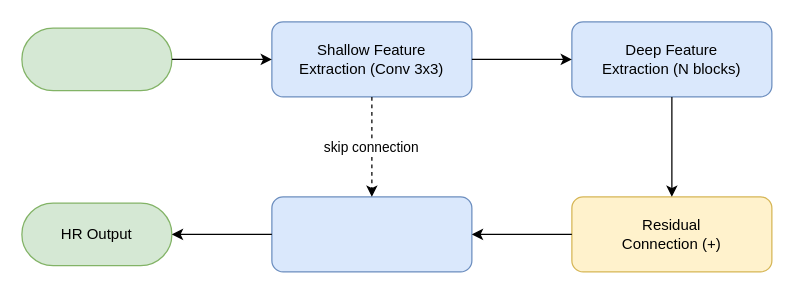
Some shapes in this 794 by 294 pixel diagram are drawn without their labels. Each missing label, with the box of its shape:
LR Input: (21, 27, 172, 91)
Upsampling (Pixel Shuffle): (271, 196, 472, 272)
